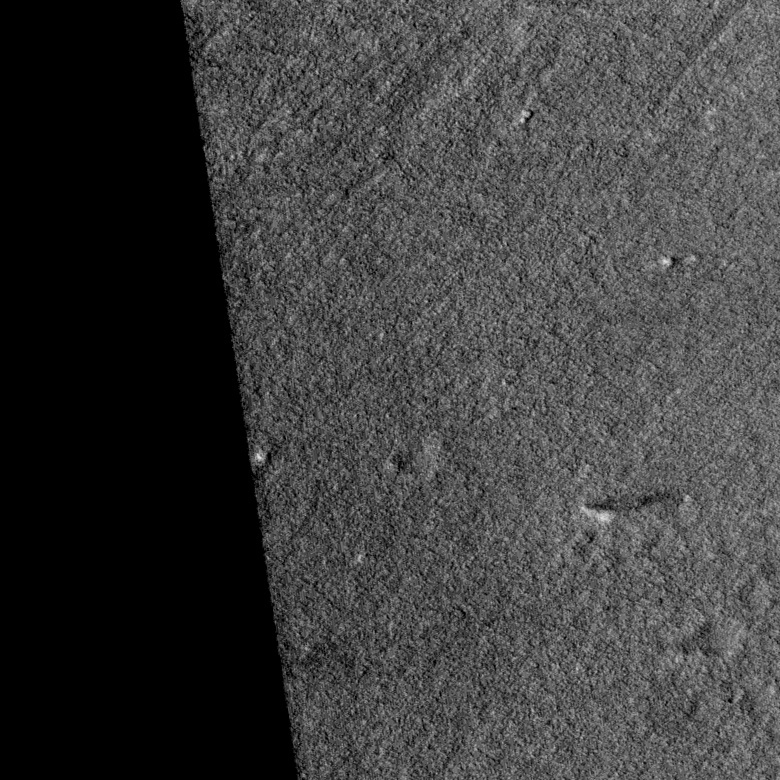dust_devil: (578, 490, 682, 525)
